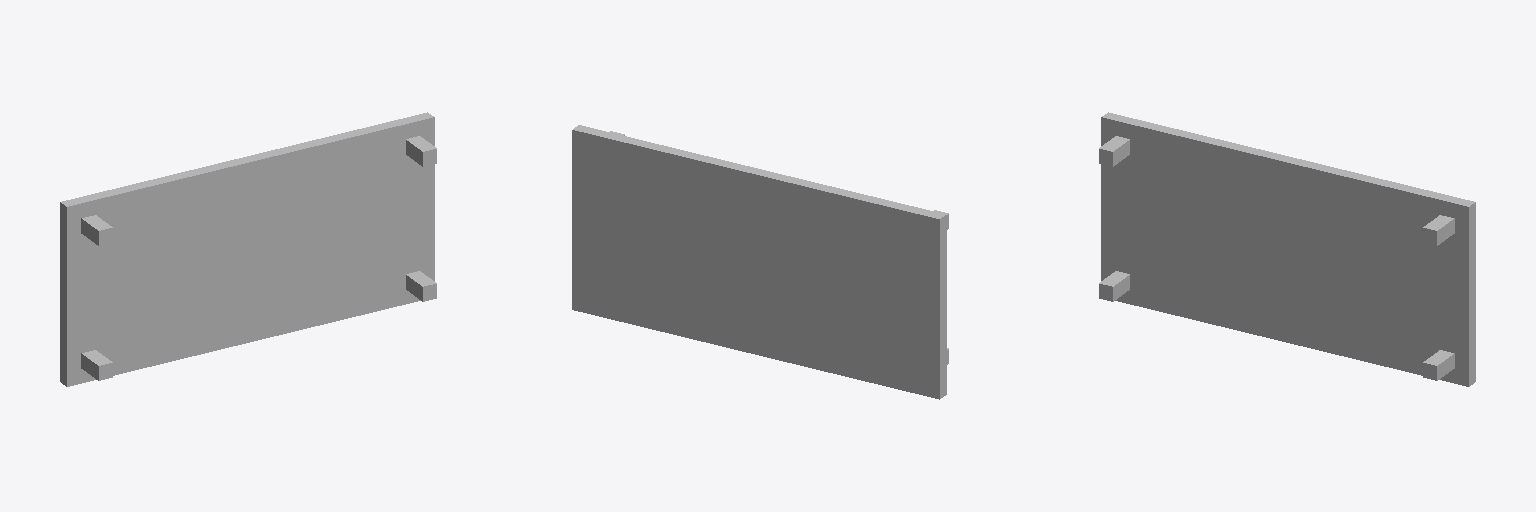
File: random_table25.obj
3 renders of one model, left to right at view 1: azimuth 30°, elevation 25°; view 2: azimuth 150°, elevation 25°; view 3: azimuth 330°, elevation 25°, orthographic.
Parts seen in each view (by area): view 1: Table_Cube.320, TableLeg3_Cube.324, TableLeg1_Cube.322, TableLeg0_Cube.321, TableLeg2_Cube.323; view 2: Table_Cube.320; view 3: Table_Cube.320, TableLeg2_Cube.323, TableLeg0_Cube.321, TableLeg1_Cube.322, TableLeg3_Cube.324.
Boxes of the visible parts, x1=… form: Table_Cube.320: x1=60, y1=112, x2=434, y2=386; TableLeg3_Cube.324: x1=81, y1=350, x2=112, y2=380; TableLeg1_Cube.322: x1=81, y1=215, x2=112, y2=245; TableLeg0_Cube.321: x1=406, y1=136, x2=436, y2=166; TableLeg2_Cube.323: x1=406, y1=271, x2=436, y2=301; Table_Cube.320: x1=572, y1=125, x2=946, y2=399; Table_Cube.320: x1=1101, y1=112, x2=1475, y2=386; TableLeg2_Cube.323: x1=1423, y1=350, x2=1454, y2=380; TableLeg0_Cube.321: x1=1423, y1=215, x2=1454, y2=245; TableLeg1_Cube.322: x1=1099, y1=136, x2=1129, y2=166; TableLeg3_Cube.324: x1=1099, y1=271, x2=1129, y2=301.
Bounding box in the file's own units: 12.68 × 5.94 × 1.42.